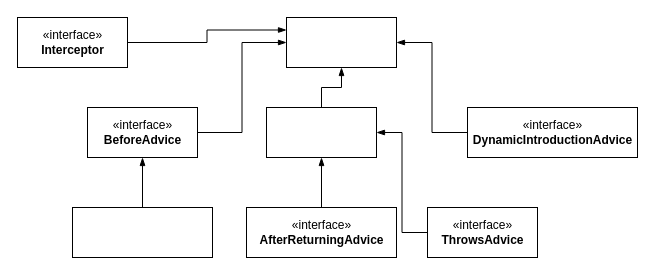
This 655x275 diagram has some shape labels left out. The shapes that lost their labels are listed below. From the top down, each one's centre as x and y in pixels, then its label:
At point (341, 42): "«interface» Advice".
At point (321, 132): "«interface» AfterAdvice".
At point (142, 232): "«interface» MethodBeforeAdvice".
